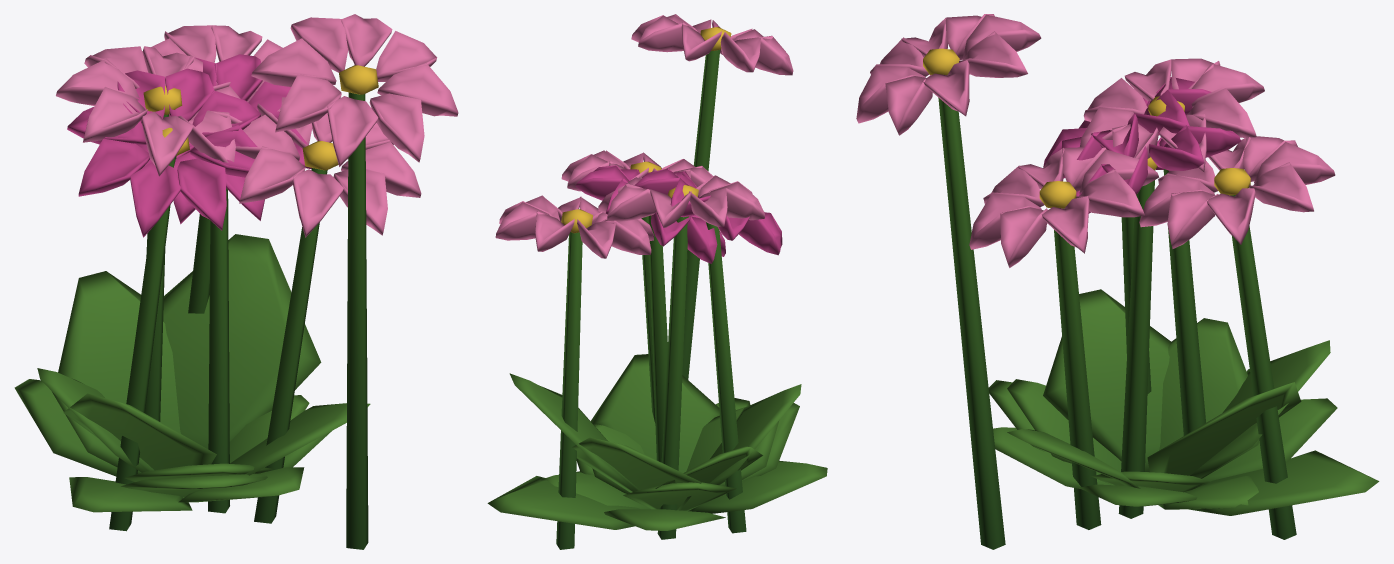
File: flowers_cosmos.glb
The picture shows the model from 3 angles, left to right: view 1: azimuth 30°, elevation 25°; view 2: azimuth 150°, elevation 25°; view 3: azimuth 270°, elevation 25°; orthographic projection. The views are drawn at different scales.
Parts seen in each view (by area): view 1: flowers_cosmos; view 2: flowers_cosmos; view 3: flowers_cosmos.
Part boxes in pixels (left/top/right/bottom): flowers_cosmos: left=14, top=14, right=458, bottom=549; flowers_cosmos: left=487, top=14, right=827, bottom=549; flowers_cosmos: left=856, top=14, right=1379, bottom=549.
Size of the model in its own units: 0.3156 by 0.4912 by 0.4598.
